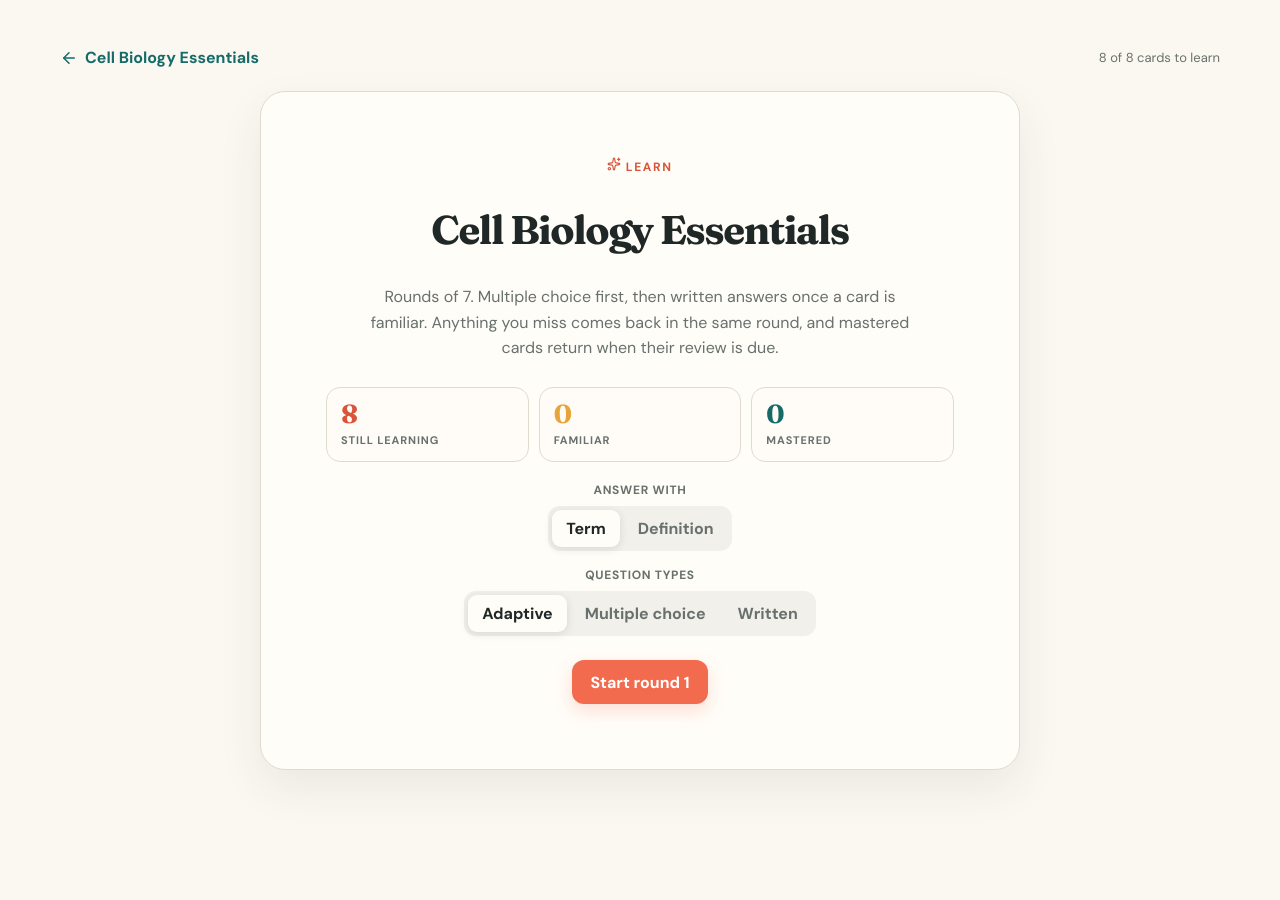
Test case: learn mode › can answer with definitions instead of terms
This screenshot has width=1280, height=900.
Click the button "Definition".
click(676, 529)  # box [624, 510, 728, 547]
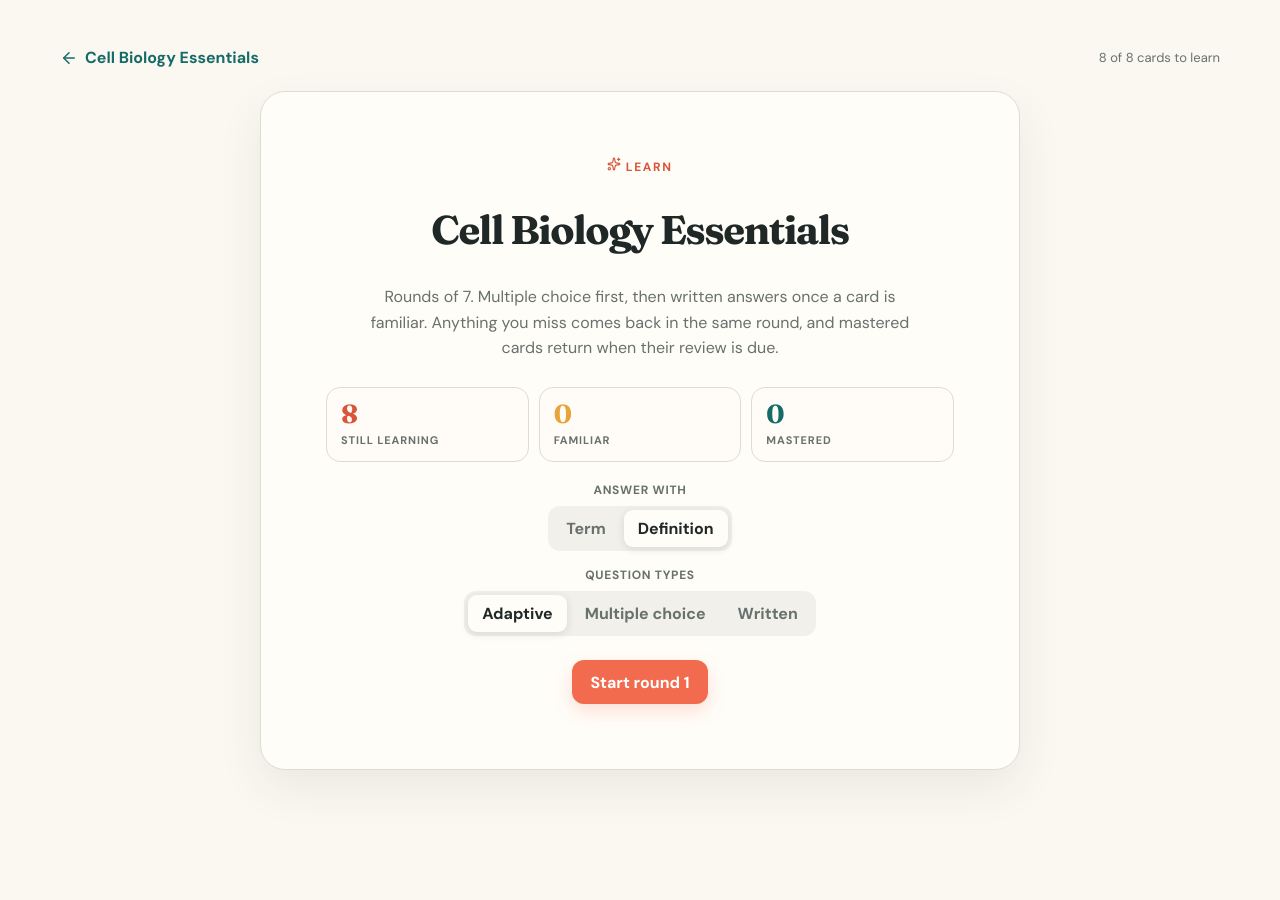
Click the button "Start round 1".
click(640, 682)  # box [572, 660, 708, 704]
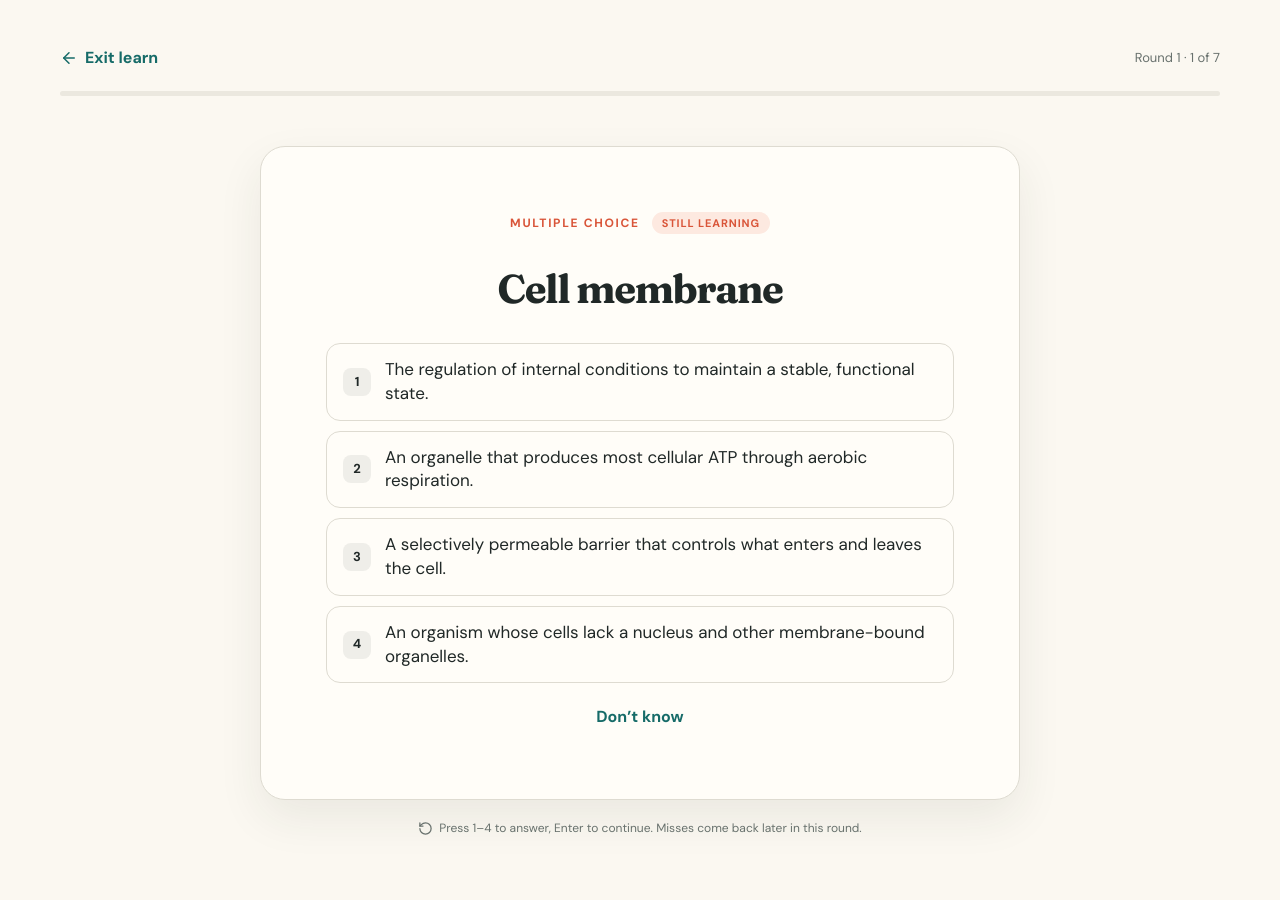
Result: the text "A selectively permeable barrier that controls what enters and leaves the cell." is shown at [385, 533, 937, 581]
